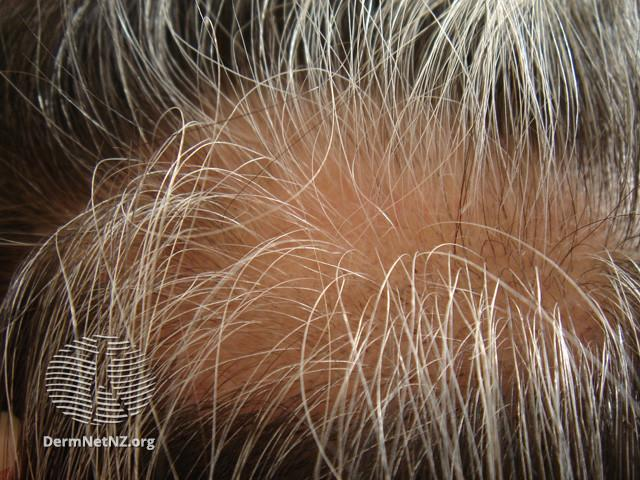Alopecia Areata: (242, 165, 627, 316)
